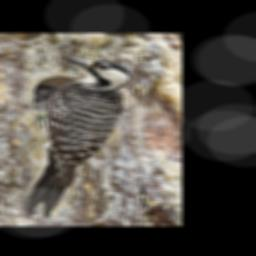Woodpecker: (22, 55, 131, 220)
